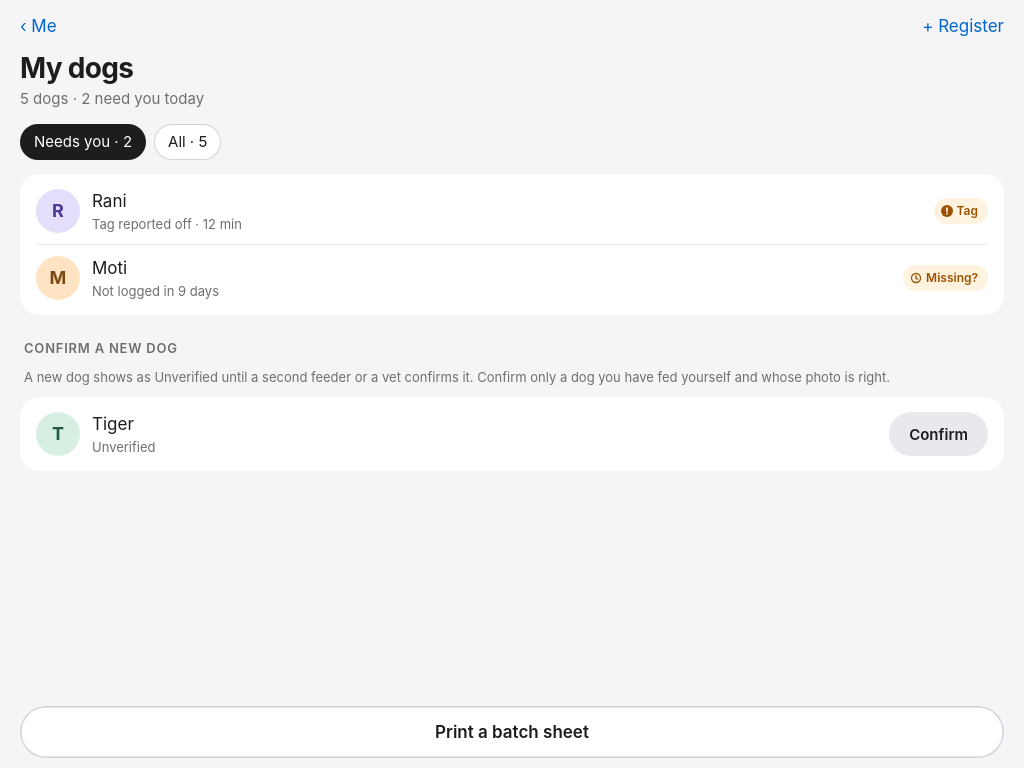
Test case: N4 My dogs › confirms a dog another feeder registered, as a second feeder
Click the button with aria-label "Confirm Tiger" at (939, 434), box [889, 412, 988, 456]
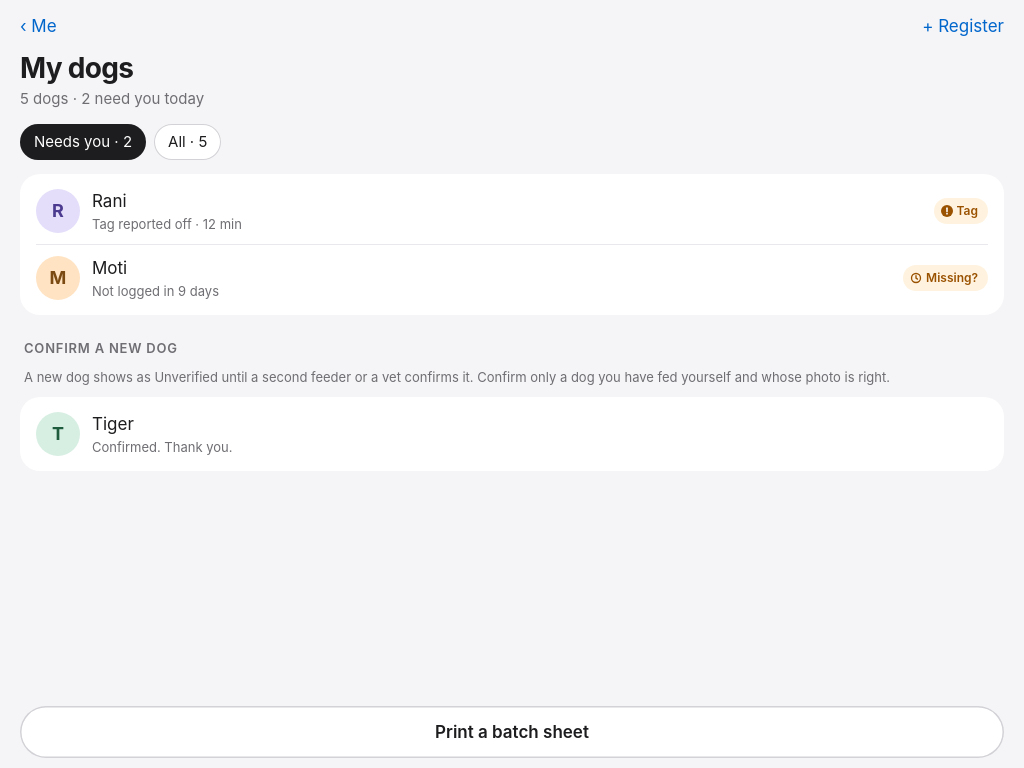
Result: the text "Confirmed. Thank you." is shown at [92, 439, 232, 455]
